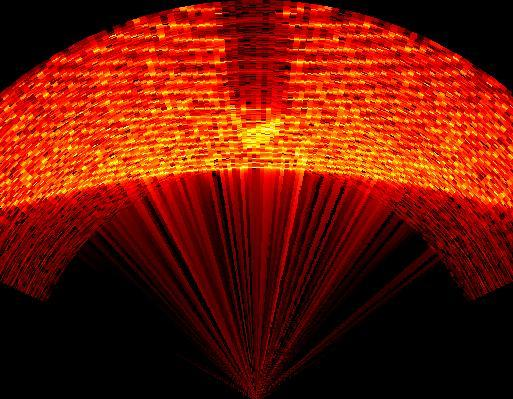box_crate: (220, 0, 296, 128)
